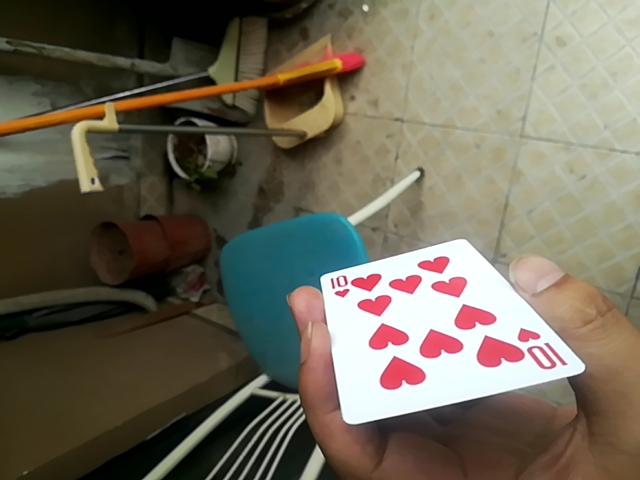hx 10: (313, 234, 584, 426)
